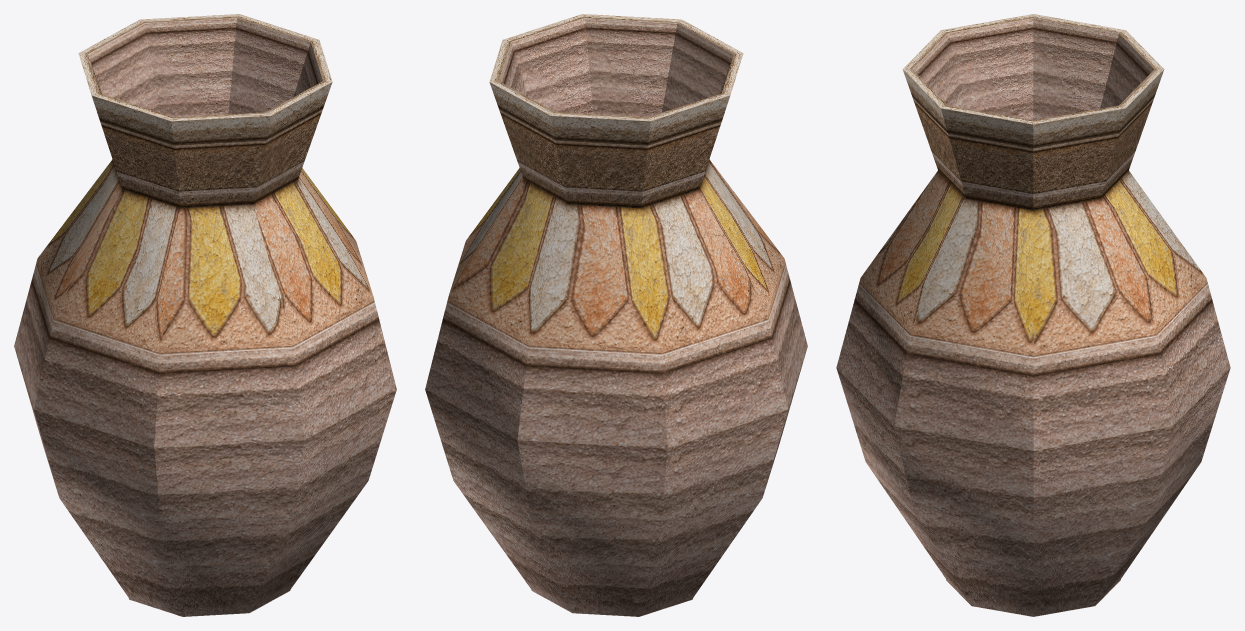
The model's file is mm9_deco_urn2.glb.
The picture shows the model from 3 angles, left to right: view 1: azimuth 30°, elevation 25°; view 2: azimuth 150°, elevation 25°; view 3: azimuth 270°, elevation 25°; orthographic projection.
Visible parts, largest first — view 1: Urn2; view 2: Urn2; view 3: Urn2.
Part boxes in pixels (x1,y1,x2,y2): Urn2: (14,14,396,616); Urn2: (425,14,807,616); Urn2: (836,14,1230,616).
Size of the model in its own units: 0.5775 by 0.8254 by 0.5775.
Materials: 1 (1 with a texture image).
